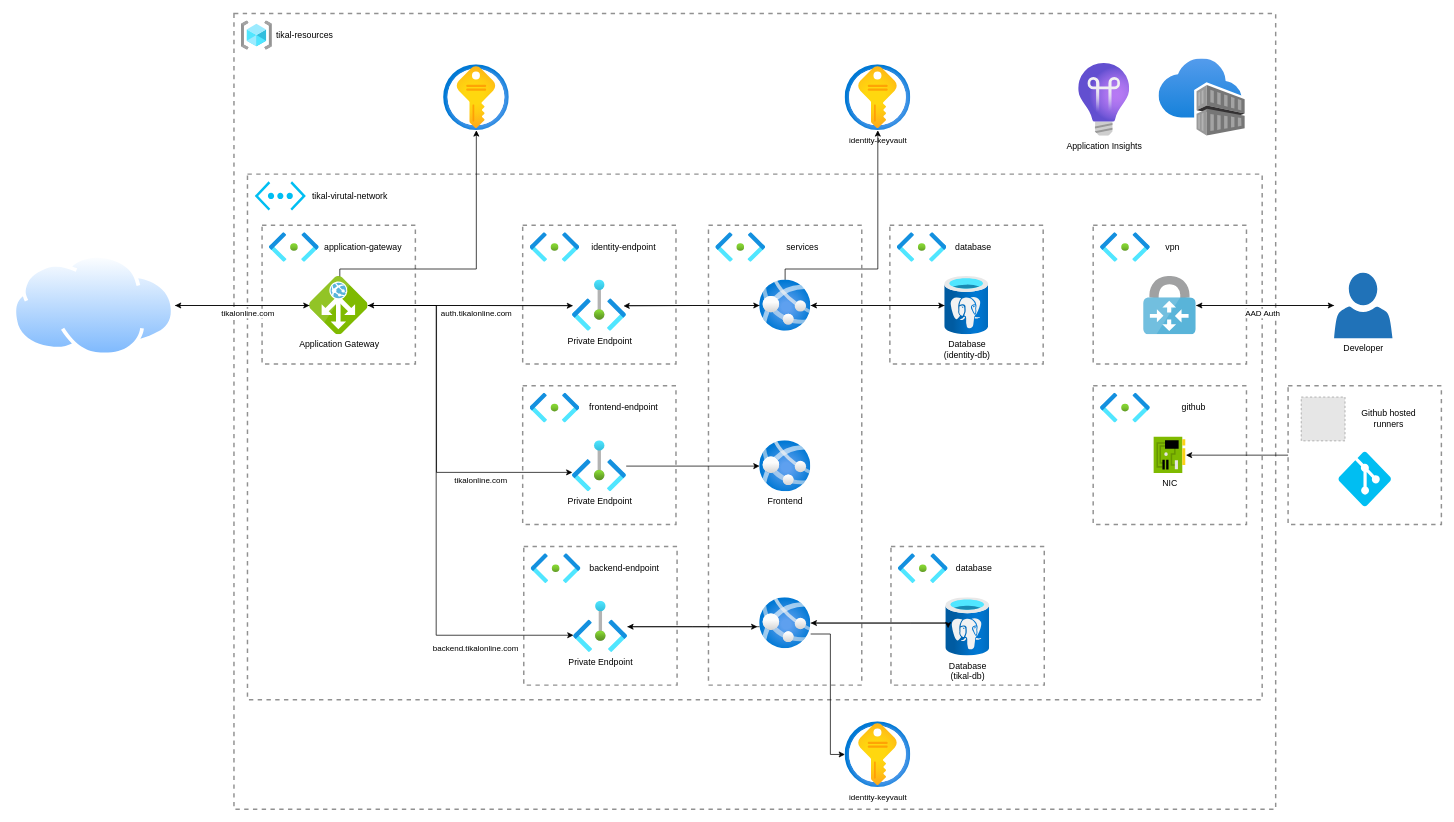
Some shapes in this 1454 by 822 pixel diagram are drawn without their labels. Grey dashed boxes stand in for pictures. Here are the shapes that lost their labels. From the top down, the centre of each, then its label:
the point at 476,97: gateway-keyvault
the point at 1202,97: Container Registry
the point at 93,305: Internet
the point at 784,305: Identity
the point at 1169,305: Virtual Network Gateway
the point at 784,622: Tikal-Backend
